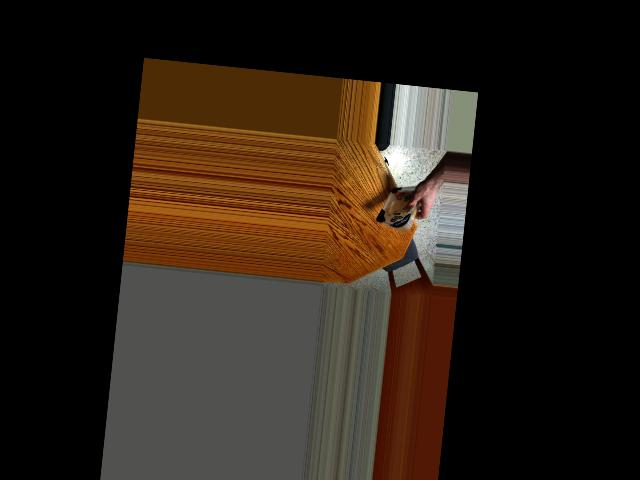cheese: (379, 177, 419, 230)
